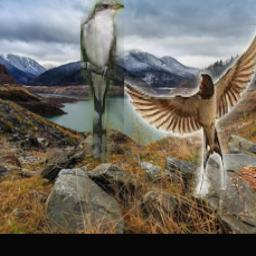Cuckoo: (82, 0, 125, 164)
Swallow: (125, 26, 256, 195)
